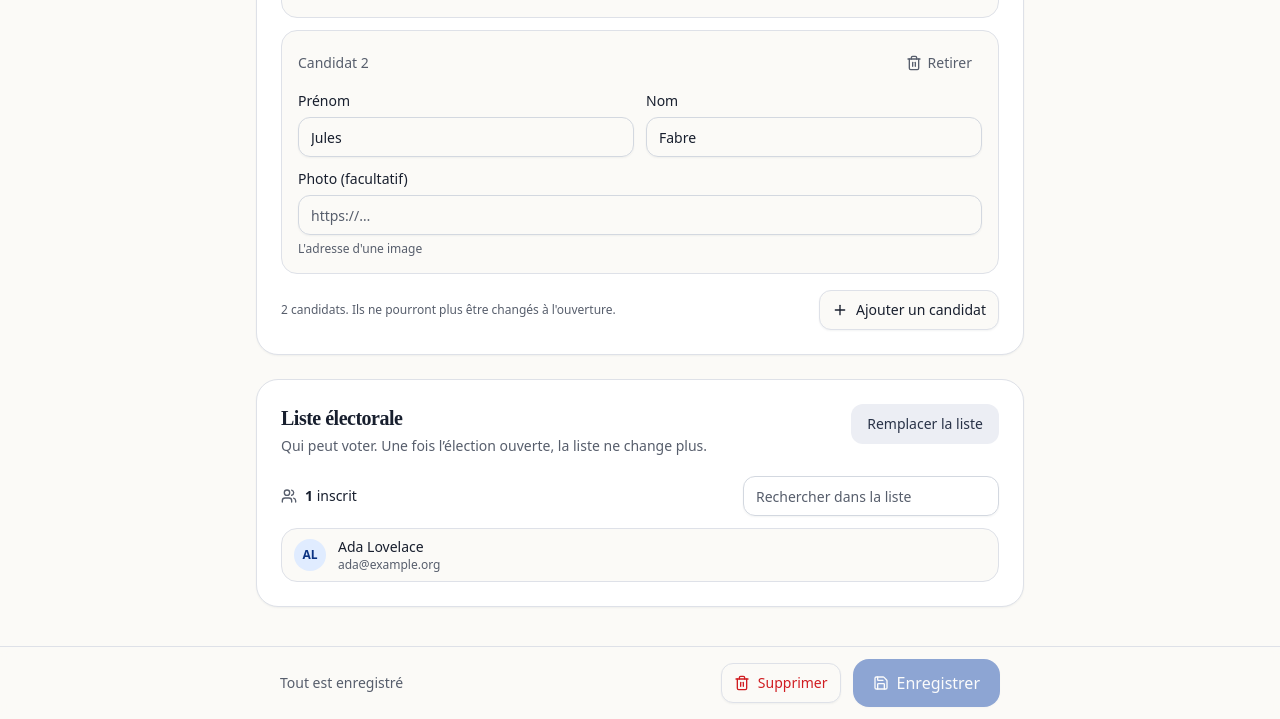
Test: changing an election that has not opened › keeps the current roll when the replacement is given up
(page scrolled)
Click the button "Remplacer la liste" at (925, 424), box 851,404 -> 999,444
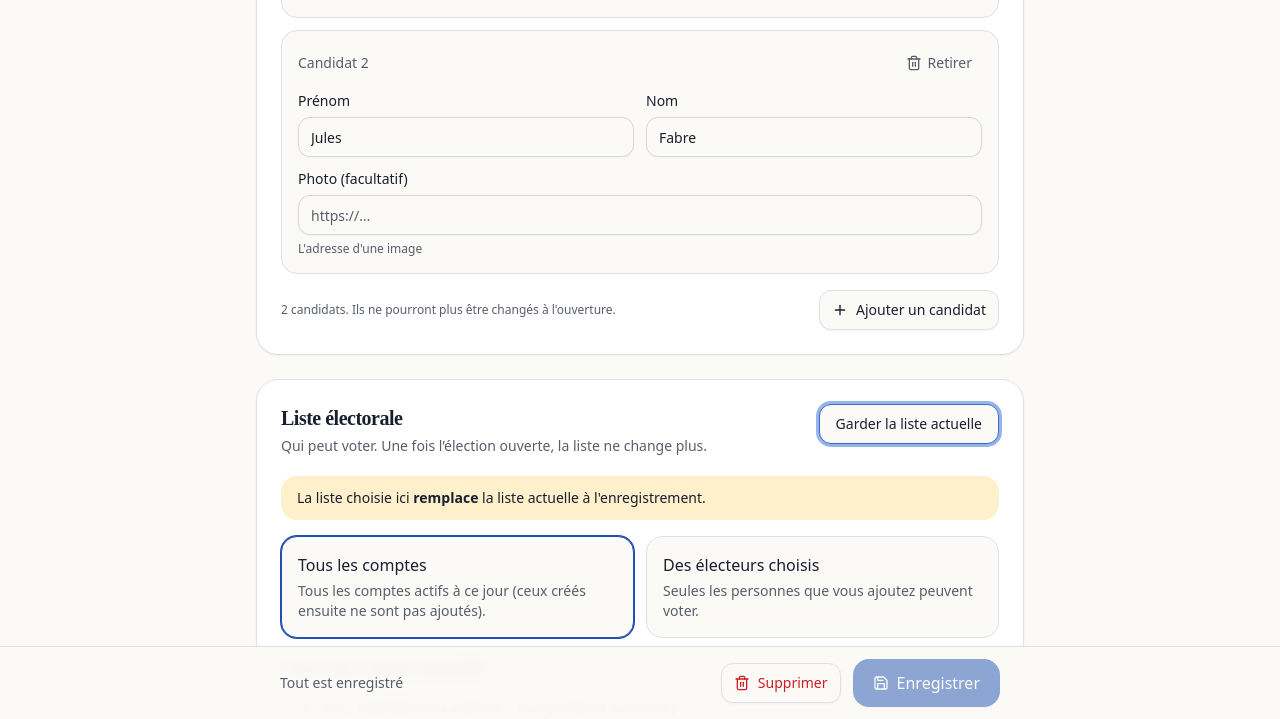
Click the button "Garder la liste actuelle" at (909, 424), box 819,404 -> 999,444
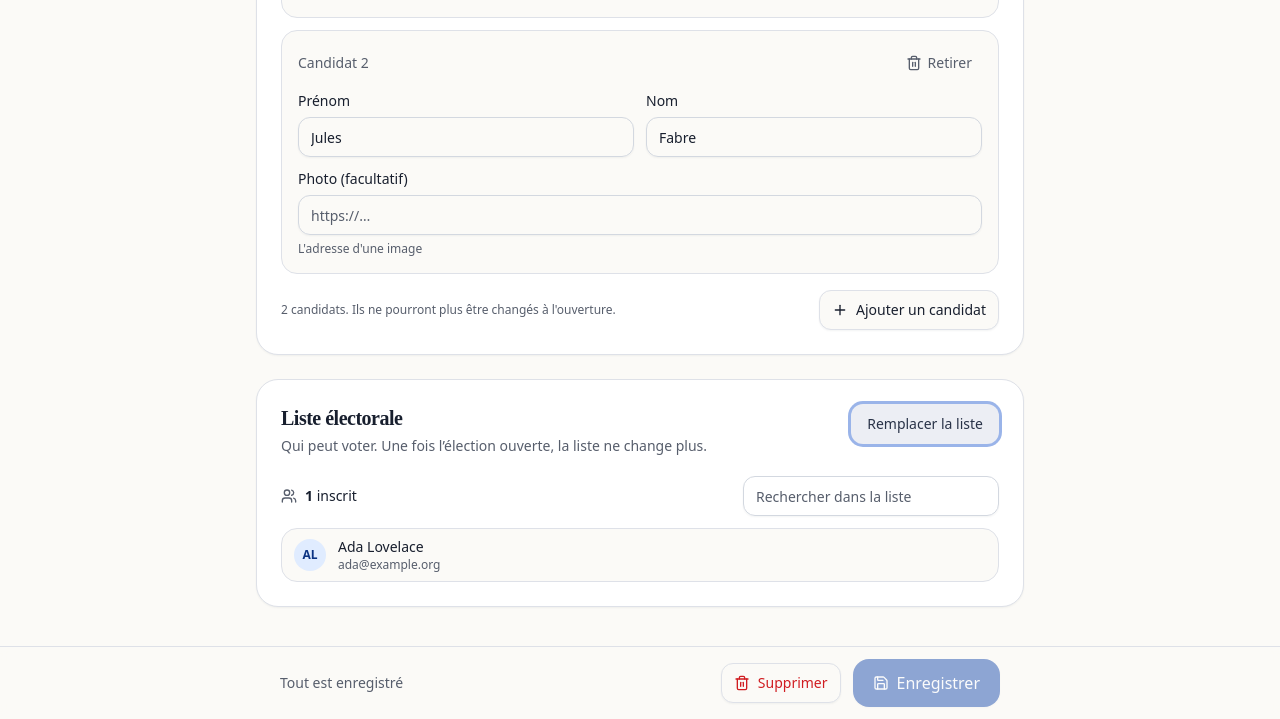
Expected: the text "Ada Lovelace" is shown, 338,537 -> 424,556
